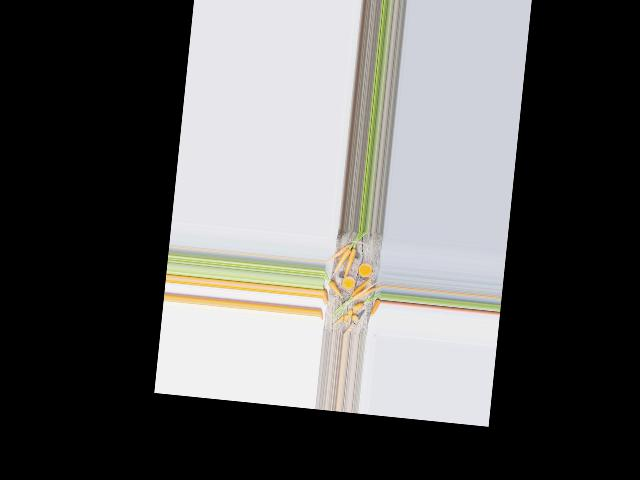carrot: (326, 237, 352, 268)
